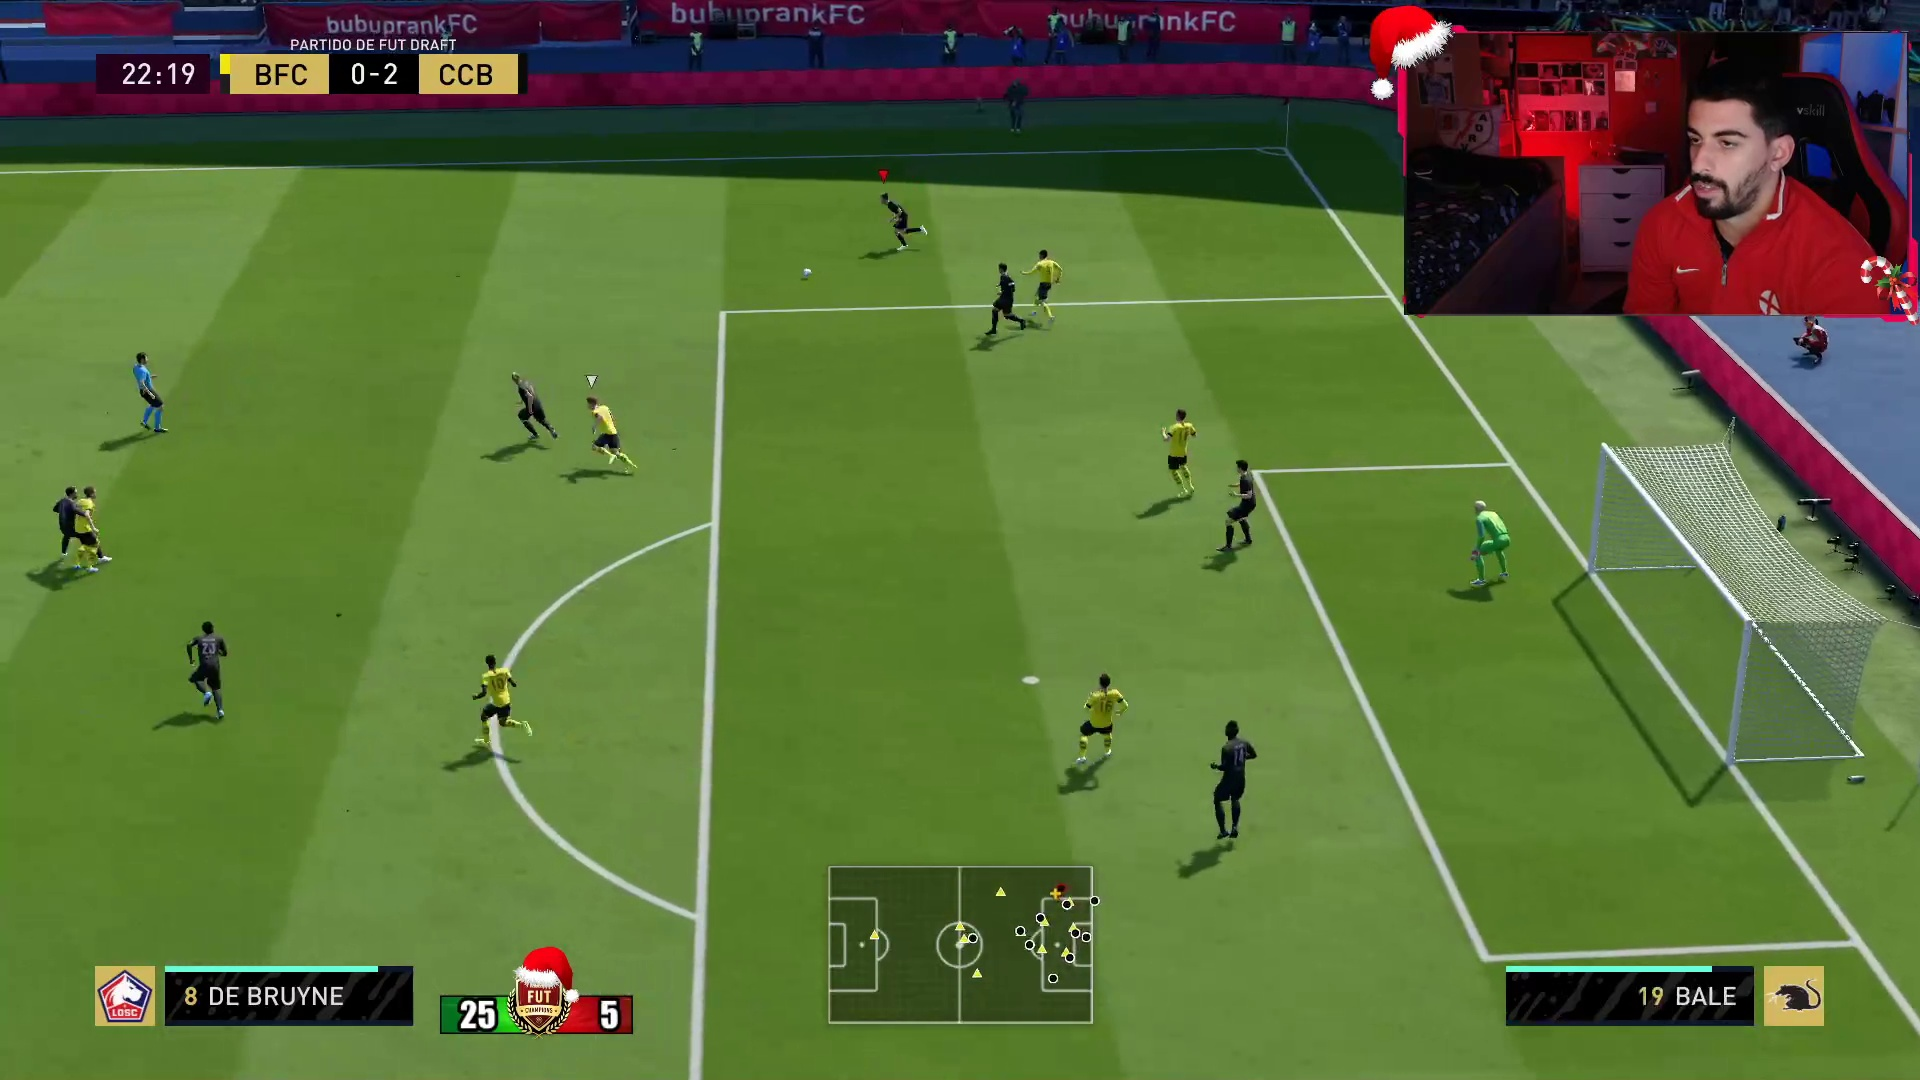player: (460, 652, 541, 770), (1204, 713, 1259, 853), (1068, 668, 1131, 780), (180, 613, 238, 735), (1213, 457, 1271, 572), (1145, 405, 1209, 506), (1459, 494, 1522, 594), (862, 182, 940, 262), (576, 390, 644, 482), (977, 257, 1037, 352), (501, 366, 562, 456), (1023, 249, 1069, 326)
